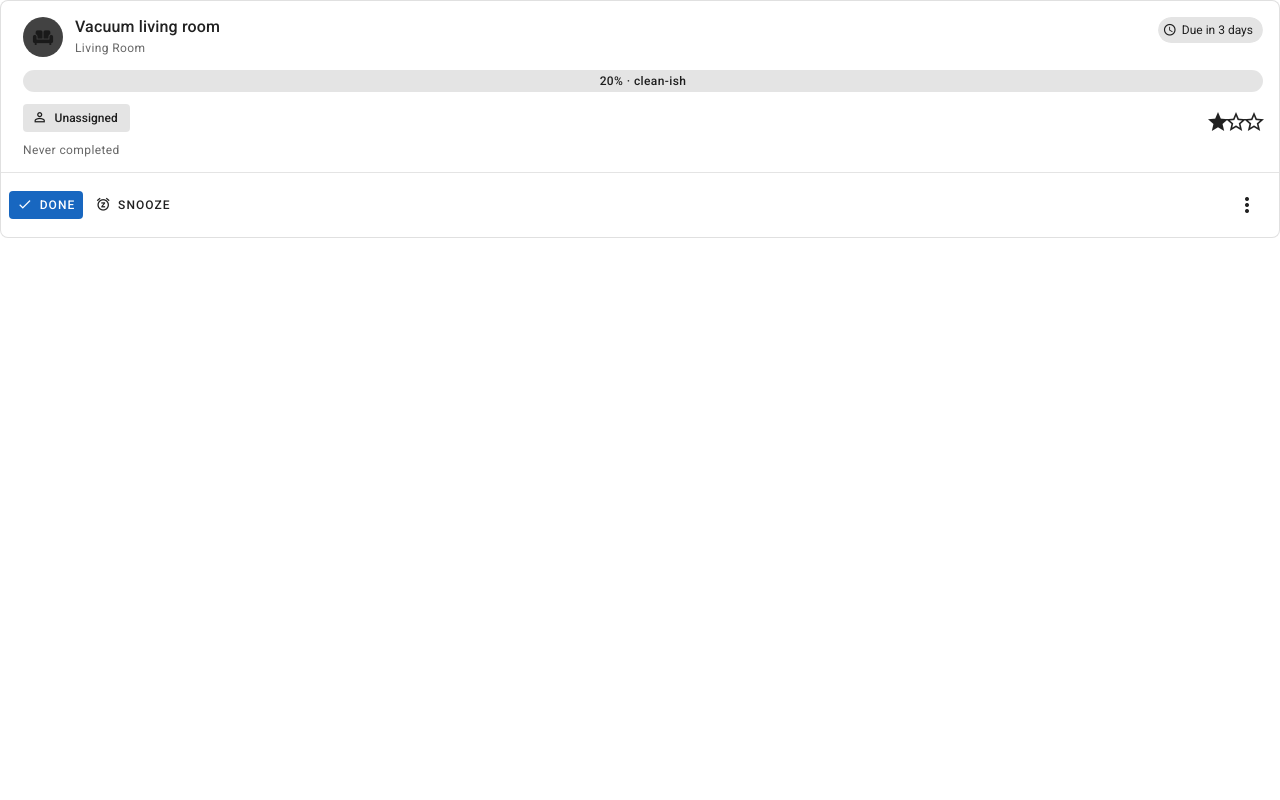
ChoreCard — remote updates vs unsaved edits › binds each control to its value, not just to the DOM
Click the button named "More actions for Vacuum living room" at coordinates (1247, 205), box top-left (1223, 181), bottom-right (1271, 229)
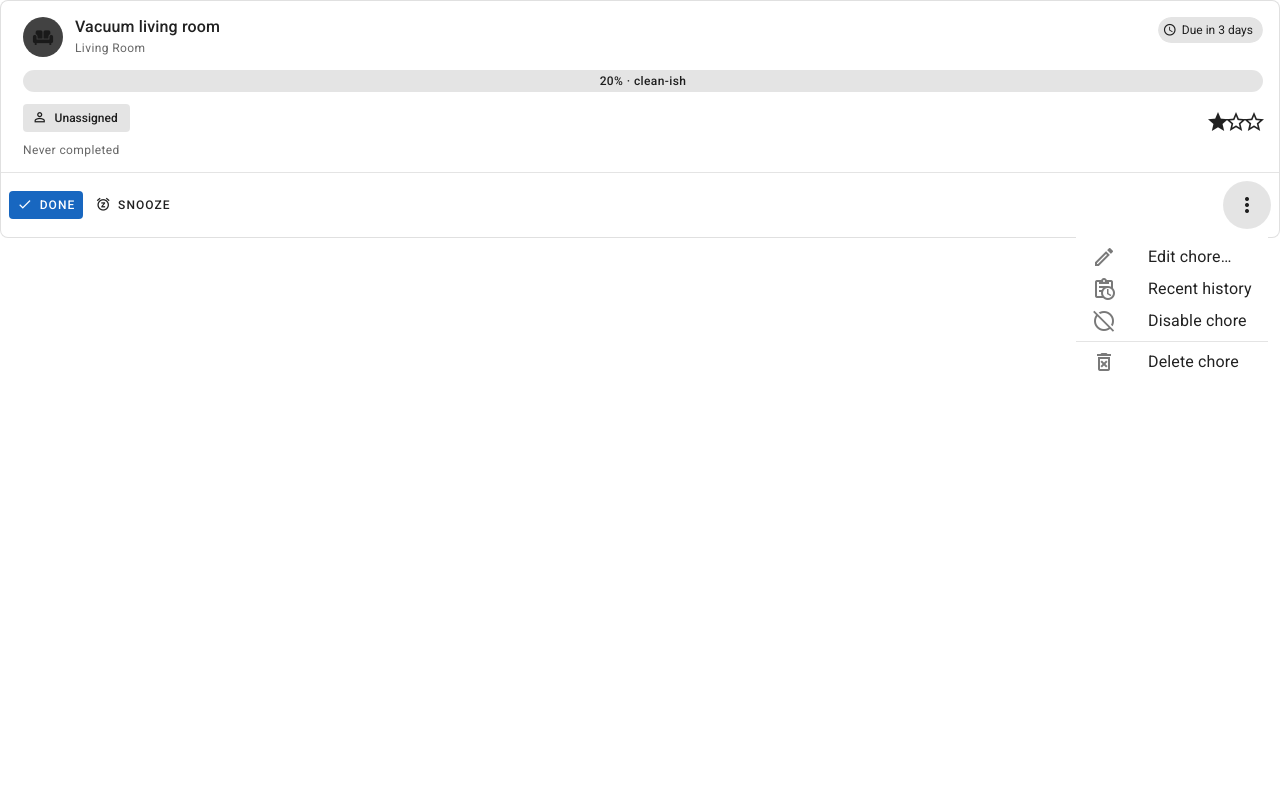
Check: the element showing "Edit chore…" is shown
Click the element showing "Edit chore…" at coordinates (1162, 257), box top-left (1092, 245), bottom-right (1232, 269)
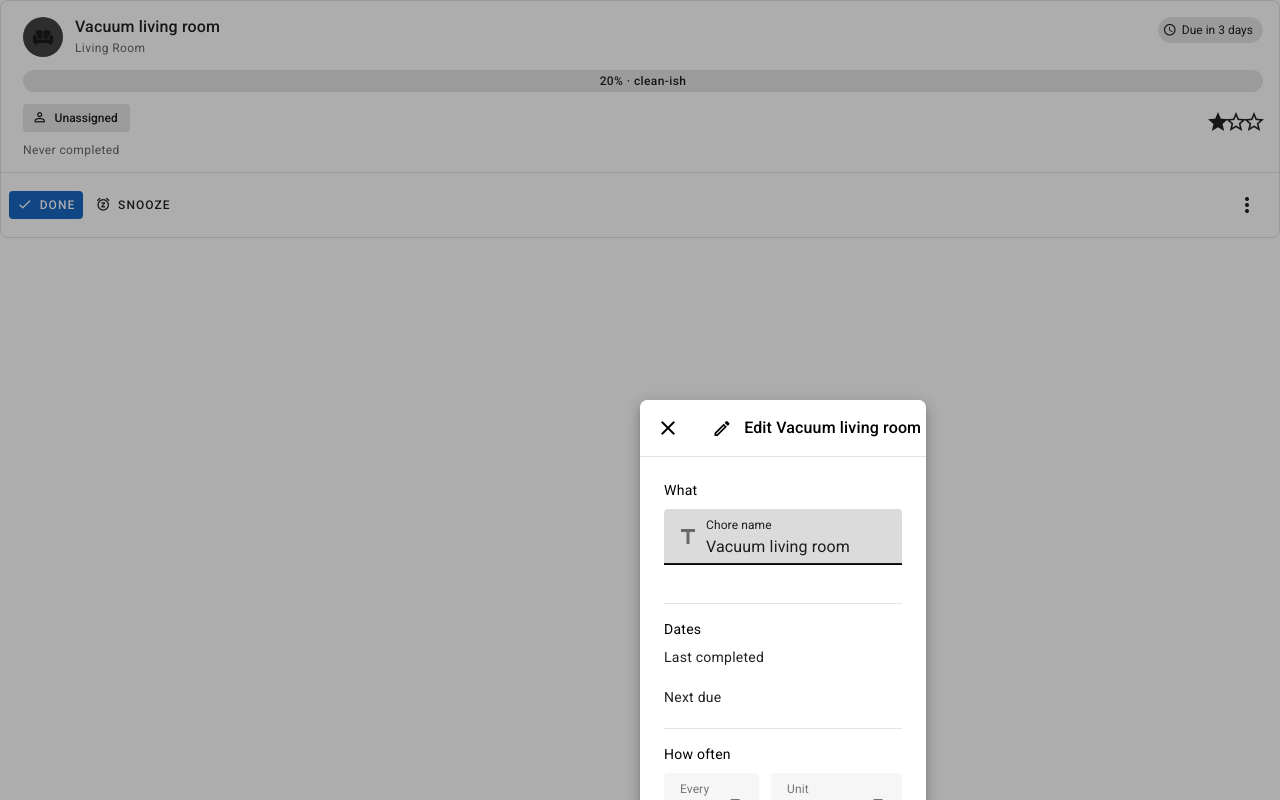
Check: the heading "Vacuum living room" is shown, box top-left (75, 17), bottom-right (220, 36)
Check: the field labelled "Chore name" is shown, box top-left (700, 509), bottom-right (902, 565)
